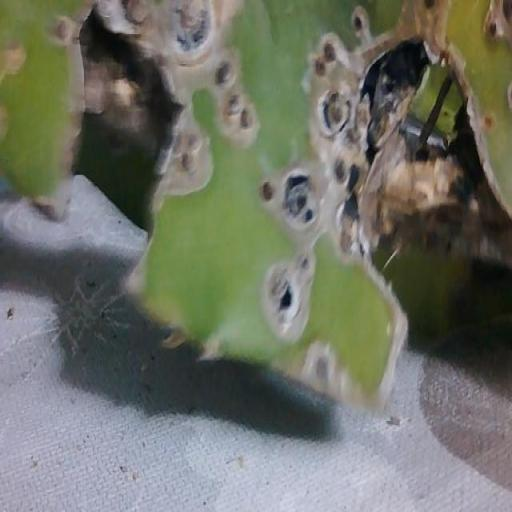stemcanker: (0, 32, 28, 94), (44, 6, 74, 52), (257, 168, 277, 214), (480, 102, 500, 138)
